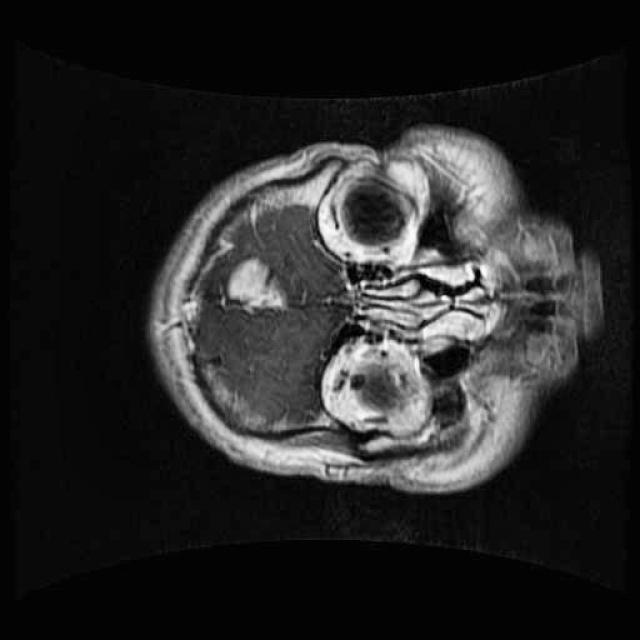Non-Tumor: (210, 248, 305, 326)
